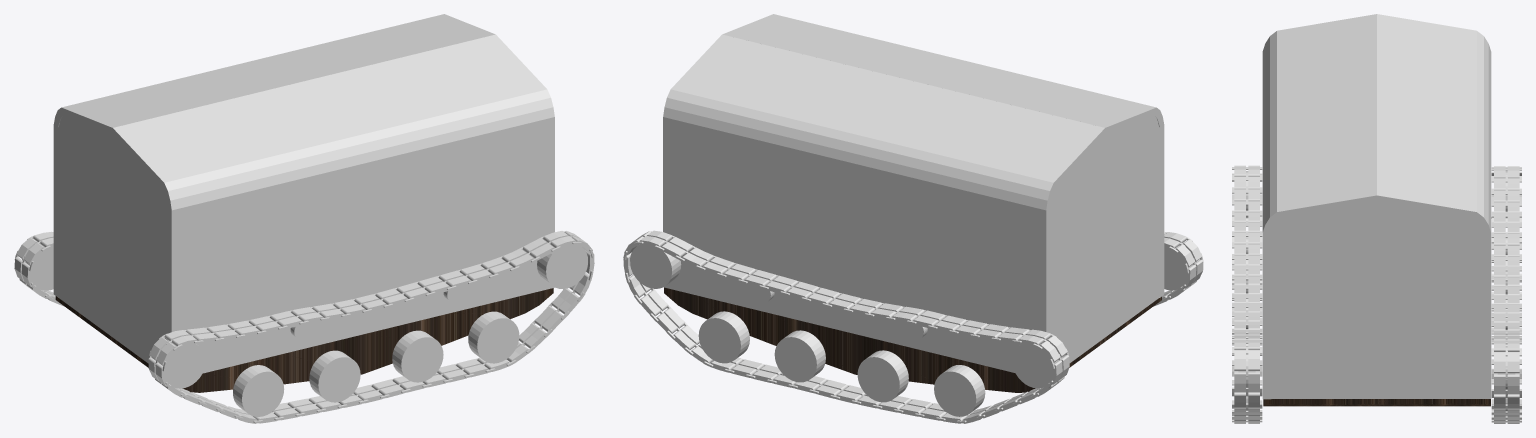
File: tonka.fbx
3 views of the same model, side by side, from view 1: azimuth 30°, elevation 25°; view 2: azimuth 150°, elevation 25°; view 3: azimuth 270°, elevation 25° (orthographic). The views are drawn at different scales.
Visible parts, largest first — view 1: Cube.009, Cube.027, Cube, Cube.029, Cylinder.005, Cylinder.010, Cylinder.011, Cylinder.012, Cylinder.009, Cube.028, Cylinder.013, Cylinder.007 (+2 smaller); view 2: Cube, Cube.027, Cube.009, Cube.030, Cylinder.005, Cylinder.019, Cylinder.017, Cylinder.018, Cylinder.020, Cube.031, Cylinder.016, Cylinder.021 (+2 smaller); view 3: Cube.026, Cube.009, Cube, Cube.030, Cube.029, Cylinder.005, Cube.031, Cube.028.
Boxes of the visible parts, x1,y1,x2,y2 form: Cube.009: (112, 34, 554, 373); Cube.027: (58, 116, 167, 362); Cube: (53, 14, 495, 297); Cube.029: (148, 231, 594, 423); Cylinder.005: (55, 288, 553, 392); Cylinder.010: (309, 350, 360, 402); Cylinder.011: (392, 330, 443, 382); Cylinder.012: (468, 311, 519, 363); Cylinder.009: (233, 365, 284, 416); Cube.028: (148, 231, 594, 423); Cylinder.013: (537, 244, 587, 288); Cylinder.007: (155, 340, 205, 388); Cube: (663, 34, 1105, 372); Cube.027: (1050, 116, 1159, 362); Cube.009: (722, 14, 1164, 297); Cube.030: (623, 230, 1069, 423); Cylinder.005: (664, 287, 1161, 392); Cylinder.019: (857, 350, 908, 402); Cylinder.017: (698, 311, 749, 363); Cylinder.018: (774, 330, 825, 382); Cylinder.020: (934, 365, 985, 416); Cube.031: (623, 231, 1068, 423); Cylinder.016: (630, 244, 681, 288); Cylinder.021: (1012, 339, 1062, 388); Cube.026: (1271, 203, 1482, 398); Cube.009: (1262, 14, 1376, 399); Cube: (1377, 14, 1491, 398); Cube.030: (1494, 166, 1519, 423); Cube.029: (1234, 165, 1259, 423); Cylinder.005: (1263, 399, 1490, 406); Cube.031: (1491, 167, 1521, 422); Cube.028: (1232, 167, 1262, 422).
Size of the model in its own units: 1175 by 688 by 702.
